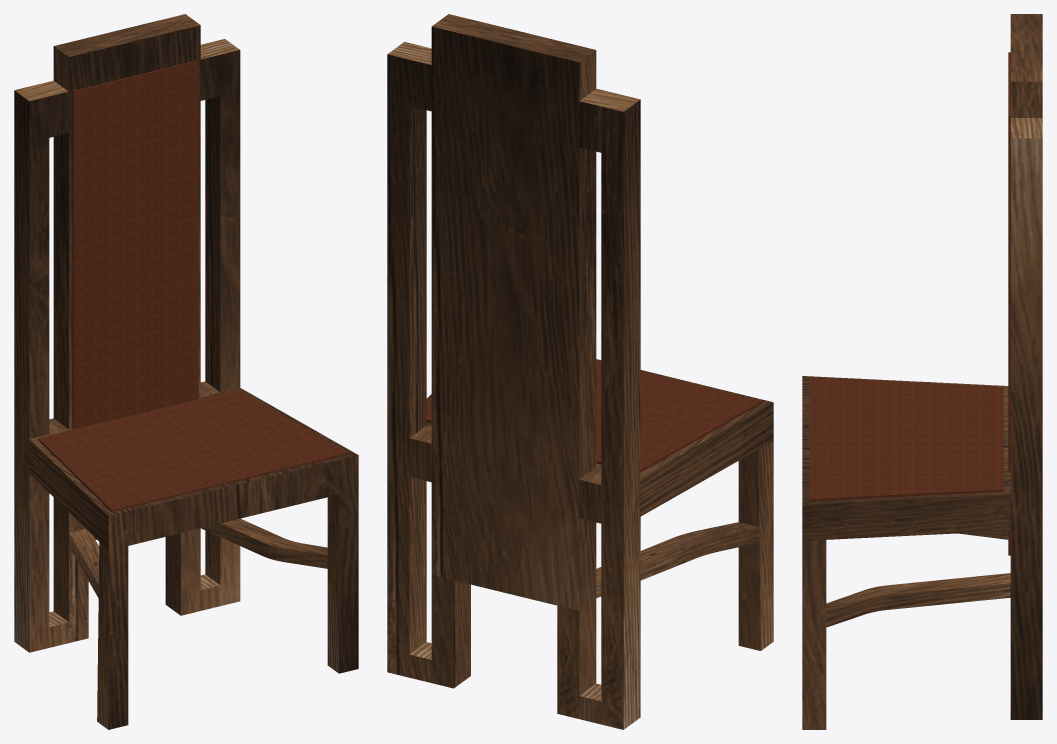
Rendered from chair.glb.
The picture shows the model from 3 angles, left to right: view 1: azimuth 30°, elevation 25°; view 2: azimuth 150°, elevation 25°; view 3: azimuth 270°, elevation 25°; orthographic projection. The views are drawn at different scales.
Visible parts, largest first — view 1: Cubo.011; view 2: Cubo.011; view 3: Cubo.011.
Boxes of the visible parts, x1,y1,x2,y2 form: Cubo.011: [14, 14, 358, 729]; Cubo.011: [387, 14, 773, 729]; Cubo.011: [802, 14, 1042, 729].
Bounding box in the file's own units: 0.627 × 1.4 × 0.495.
Materials: 1 (1 with a texture image).
